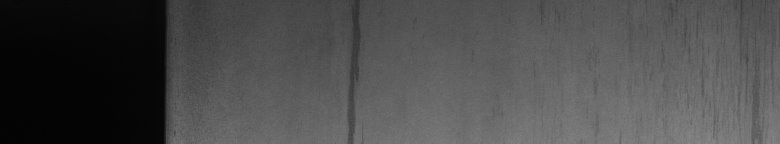hd: (342, 4, 363, 136)
